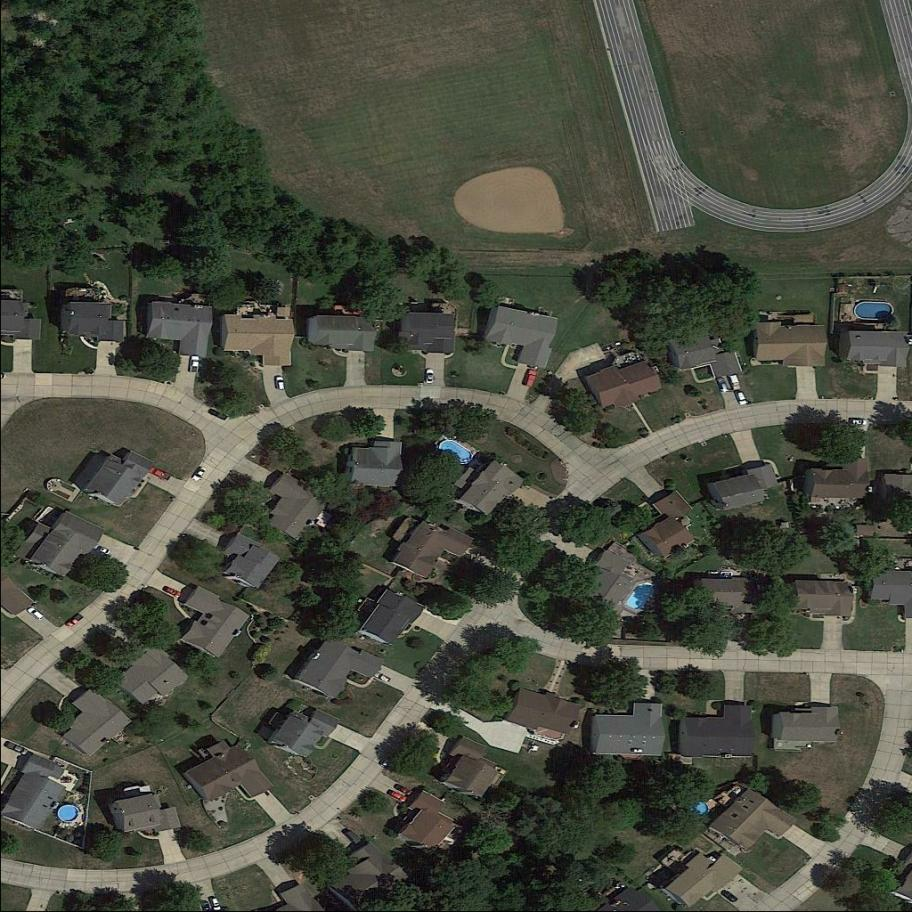small-vehicle: (147, 464, 173, 484), (522, 368, 540, 390), (91, 541, 113, 558), (206, 407, 229, 423), (66, 612, 85, 630), (162, 584, 183, 600), (191, 465, 208, 484), (387, 789, 408, 804), (26, 606, 44, 622), (373, 670, 391, 686), (720, 888, 737, 904), (728, 373, 742, 392), (394, 783, 413, 797), (734, 389, 747, 406), (189, 355, 200, 375), (273, 375, 286, 391), (717, 376, 729, 393), (425, 369, 436, 385), (211, 897, 222, 912), (850, 419, 867, 427)
